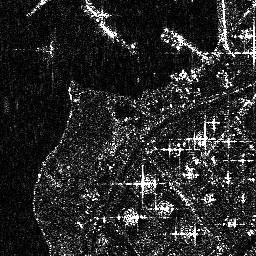ship: (80, 5, 118, 41), (158, 33, 182, 51)
